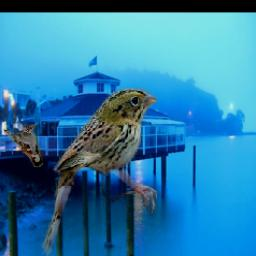Sparrow: (39, 89, 157, 256), (4, 124, 44, 167)
